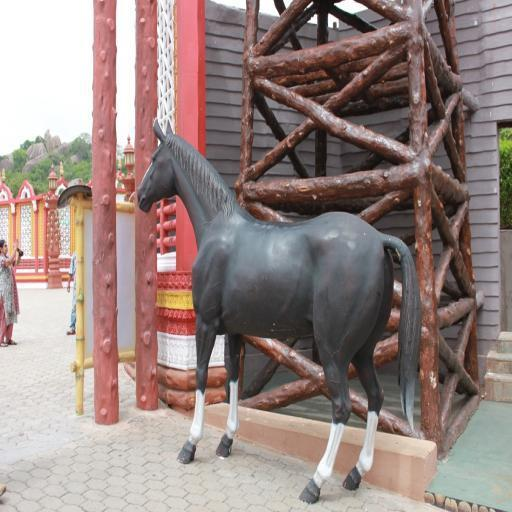horse: (136, 114, 422, 502)
